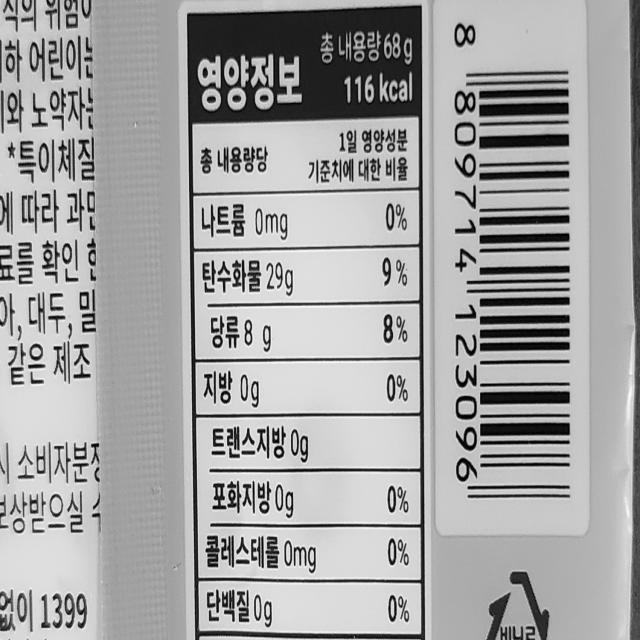Nutrition Label: (181, 9, 440, 640)
